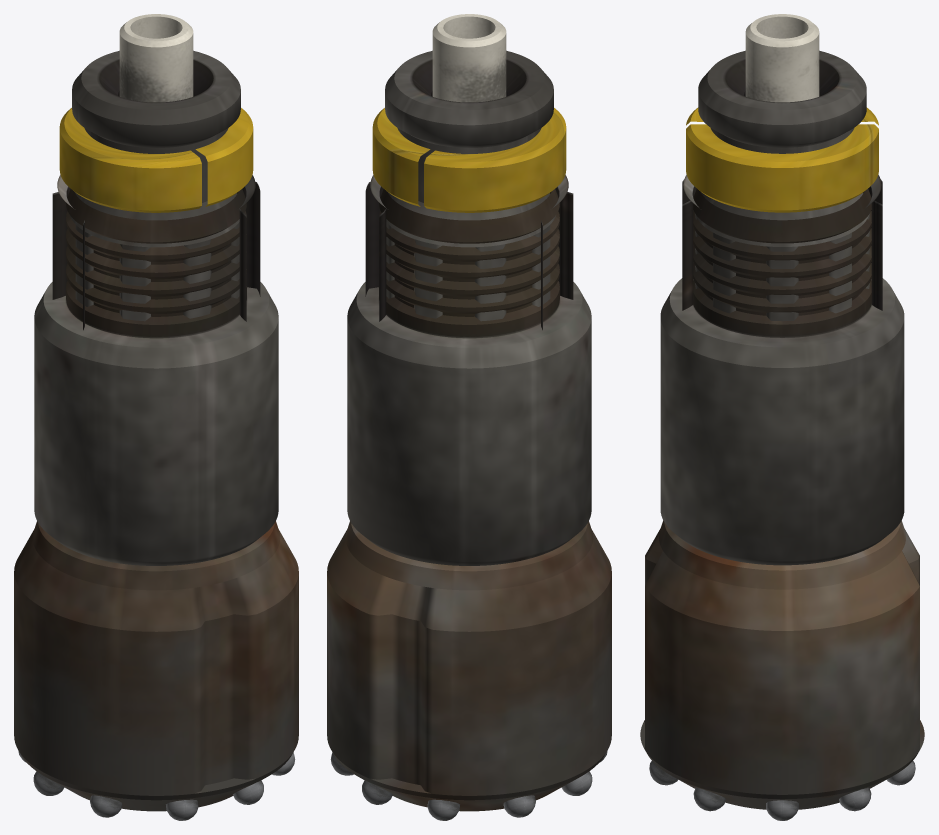
The model's file is SM_Bit_3_5_8po_AvecChuck.glb.
3 views of the same model, side by side, from view 1: azimuth 30°, elevation 25°; view 2: azimuth 150°, elevation 25°; view 3: azimuth 270°, elevation 25° (orthographic).
Parts seen in each view (by area): view 1: Bit_3_5_8po_AvecChuck_Bit, Bit_3_5_8po_AvecChuck_Chuck, Bit_3_5_8po_AvecChuck_Anneaux, Bit_3_5_8po_AvecChuck_TubeDePied, Bit_3_5_8po_AvecChuck_Boutons; view 2: Bit_3_5_8po_AvecChuck_Bit, Bit_3_5_8po_AvecChuck_Chuck, Bit_3_5_8po_AvecChuck_Anneaux, Bit_3_5_8po_AvecChuck_TubeDePied, Bit_3_5_8po_AvecChuck_Boutons; view 3: Bit_3_5_8po_AvecChuck_Bit, Bit_3_5_8po_AvecChuck_Chuck, Bit_3_5_8po_AvecChuck_Anneaux, Bit_3_5_8po_AvecChuck_TubeDePied, Bit_3_5_8po_AvecChuck_Boutons.
Part boxes in pixels (x1,y1,x2,y2): Bit_3_5_8po_AvecChuck_Bit: [14, 50, 298, 811]; Bit_3_5_8po_AvecChuck_Chuck: [34, 175, 278, 565]; Bit_3_5_8po_AvecChuck_Anneaux: [59, 108, 253, 212]; Bit_3_5_8po_AvecChuck_TubeDePied: [119, 14, 193, 102]; Bit_3_5_8po_AvecChuck_Boutons: [18, 750, 295, 820]; Bit_3_5_8po_AvecChuck_Bit: [327, 50, 611, 811]; Bit_3_5_8po_AvecChuck_Chuck: [347, 175, 591, 565]; Bit_3_5_8po_AvecChuck_Anneaux: [372, 108, 566, 212]; Bit_3_5_8po_AvecChuck_TubeDePied: [432, 14, 506, 102]; Bit_3_5_8po_AvecChuck_Boutons: [330, 750, 607, 820]; Bit_3_5_8po_AvecChuck_Bit: [640, 50, 924, 809]; Bit_3_5_8po_AvecChuck_Chuck: [660, 175, 904, 565]; Bit_3_5_8po_AvecChuck_Anneaux: [686, 107, 878, 212]; Bit_3_5_8po_AvecChuck_TubeDePied: [745, 14, 819, 102]; Bit_3_5_8po_AvecChuck_Boutons: [649, 761, 915, 820].
Bounding box in the file's own units: 0.0921 × 0.2686 × 0.0921.
Materials: 5 (5 with a texture image).
